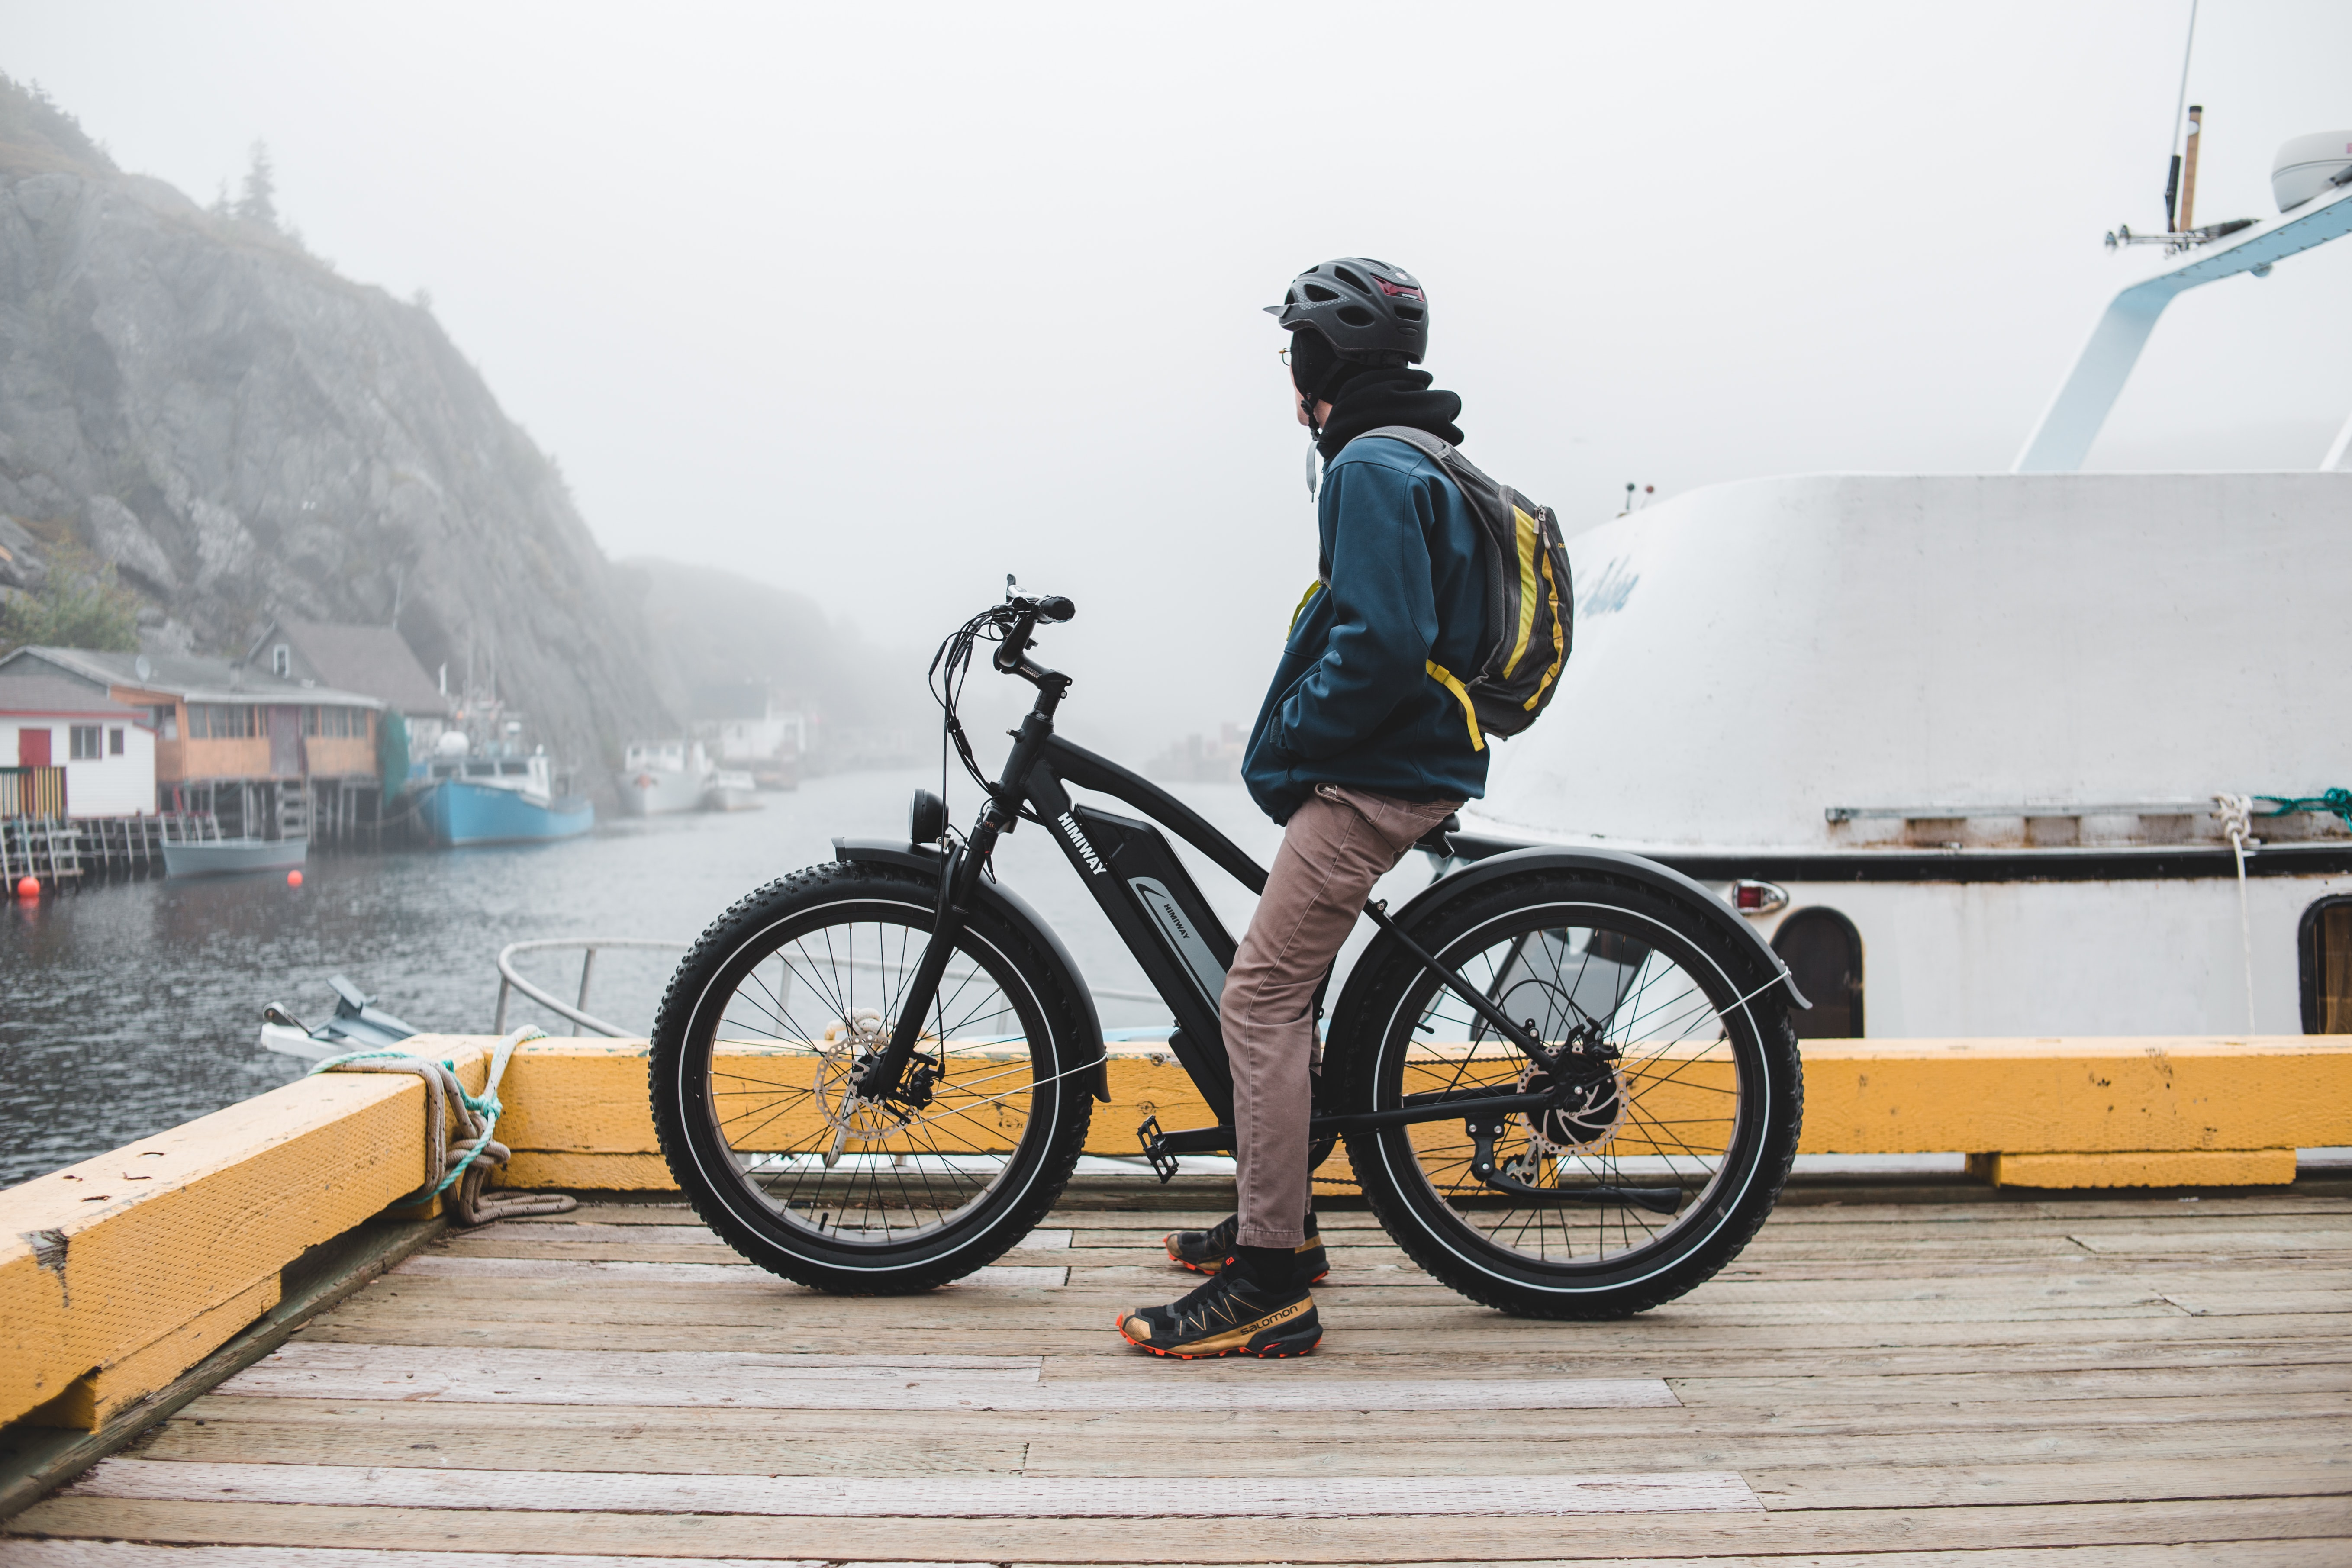person: (1116, 254, 1577, 1362)
